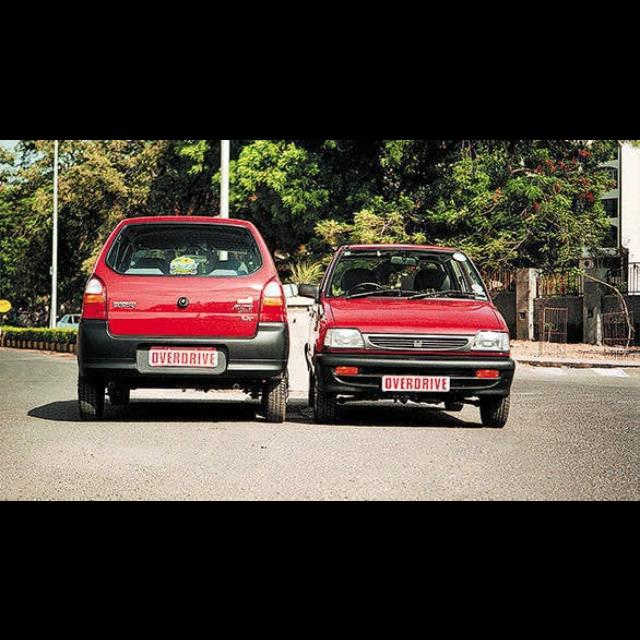number-plate: (382, 376, 451, 393), (148, 349, 221, 365)
vehicles: (75, 213, 290, 425), (297, 236, 522, 433)
